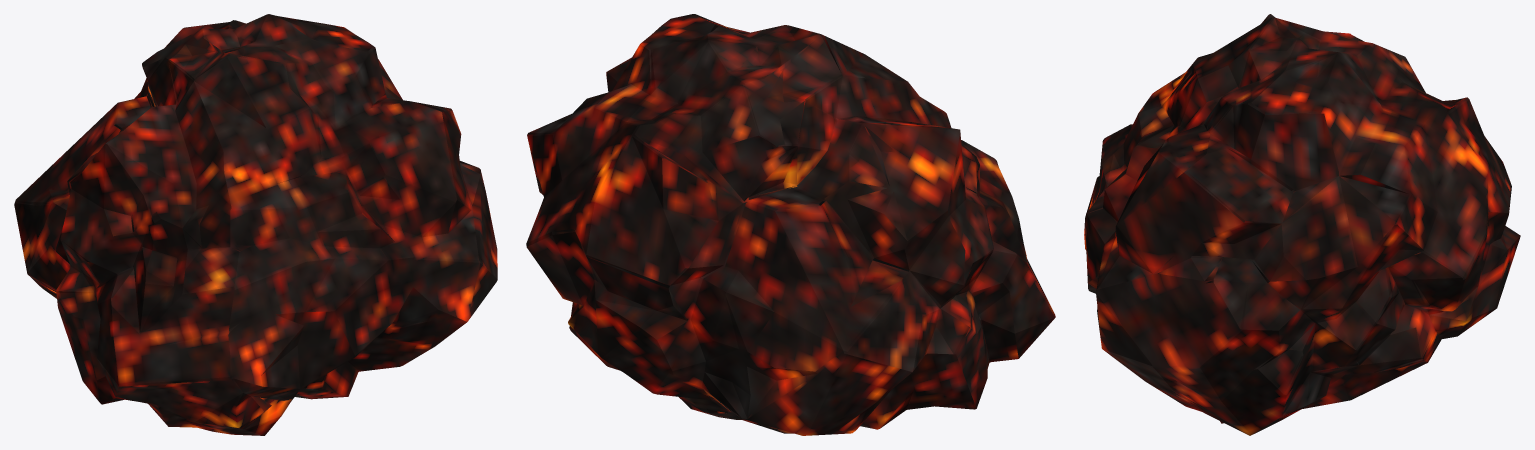
Rendered from meteor_red_form_core_01.glb.
3 views of the same model, side by side, from view 1: azimuth 30°, elevation 25°; view 2: azimuth 150°, elevation 25°; view 3: azimuth 270°, elevation 25° (orthographic). The views are drawn at different scales.
Parts seen in each view (by area): view 1: Mesh1.0; view 2: Mesh1.0; view 3: Mesh1.0.
Boxes of the visible parts, bbox=[...] form: Mesh1.0: bbox=[14, 14, 497, 435]; Mesh1.0: bbox=[526, 14, 1055, 435]; Mesh1.0: bbox=[1084, 14, 1520, 435].
Bounding box in the file's own units: 1.91 × 1.6 × 1.73.
1 material, 1 textured.
